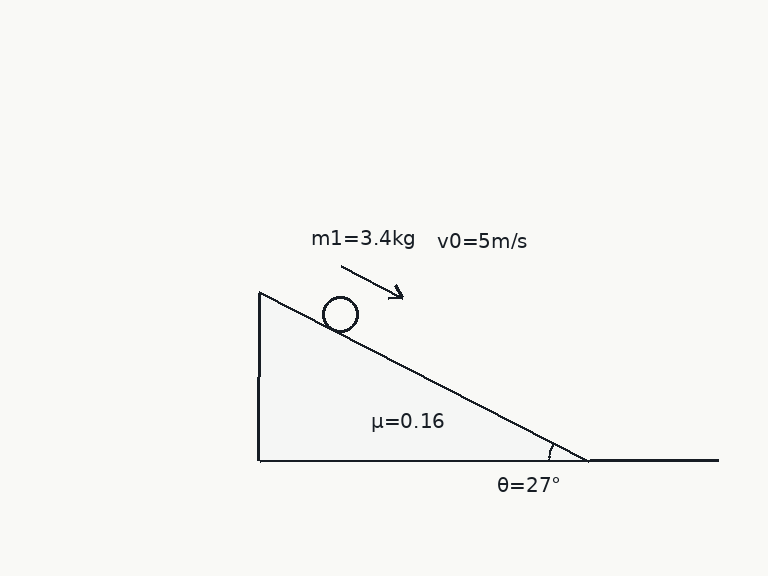ball: (320, 294, 360, 334)
ramp: (257, 291, 591, 463)
